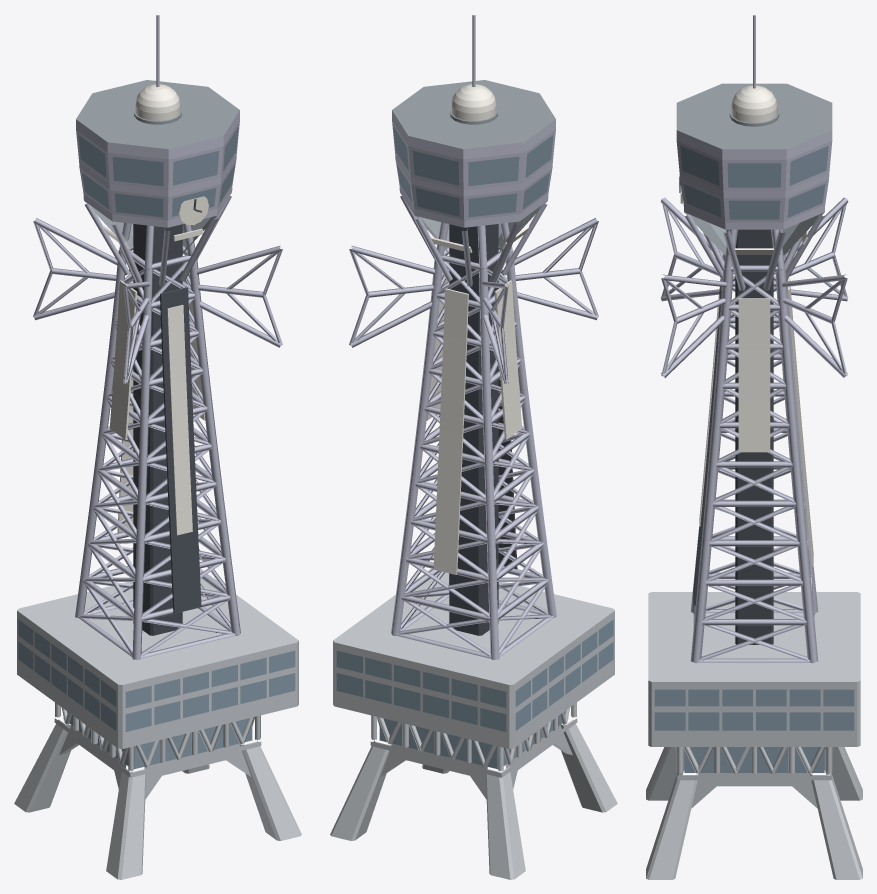
File: osaka-tsutenkaku.glb
3 views of the same model, side by side, from view 1: azimuth 30°, elevation 25°; view 2: azimuth 150°, elevation 25°; view 3: azimuth 270°, elevation 25° (orthographic).
Visible parts, largest first — view 1: Tsutenkaku; view 2: Tsutenkaku; view 3: Tsutenkaku.
Part boxes in pixels (bbox=[...]): Tsutenkaku: bbox=[14, 15, 301, 879]; Tsutenkaku: bbox=[330, 15, 617, 879]; Tsutenkaku: bbox=[646, 15, 862, 879].
Bounding box in the file's own units: 25.9 × 108 × 25.9.
